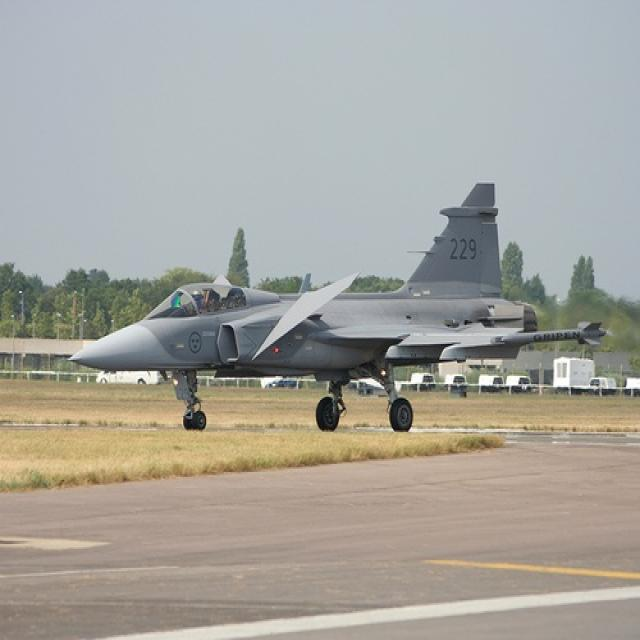aeroplane: (59, 181, 612, 443)
